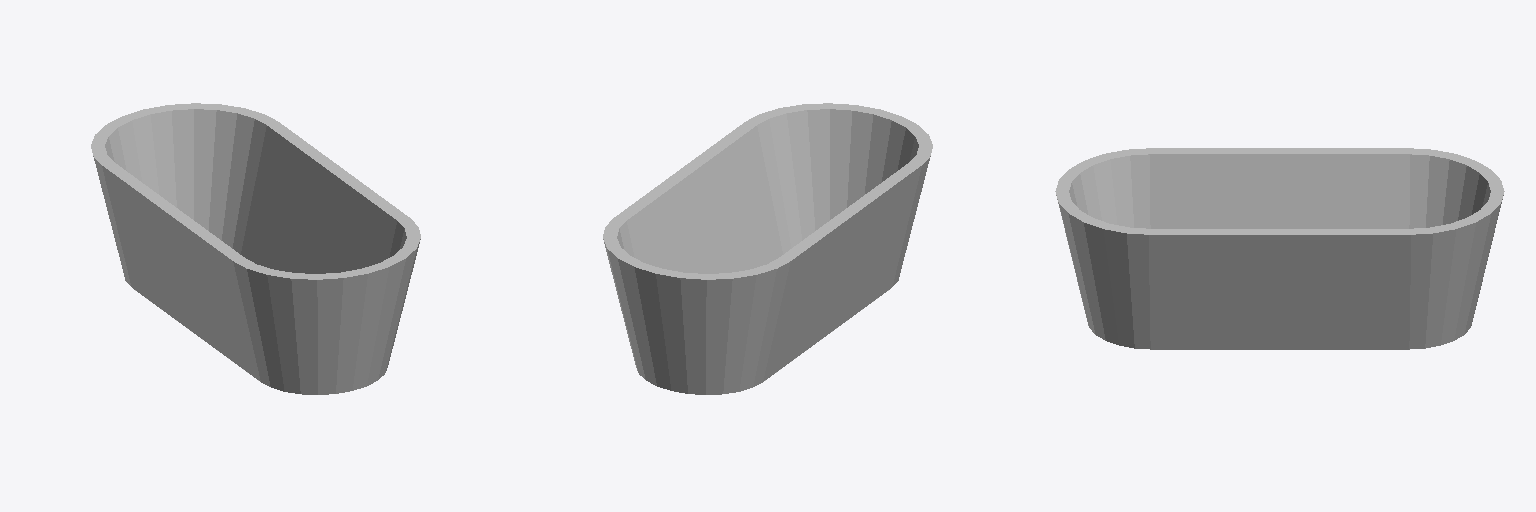
File: UMBRELLA BLANCA.obj
3 views of the same model, side by side, from view 1: azimuth 30°, elevation 25°; view 2: azimuth 150°, elevation 25°; view 3: azimuth 270°, elevation 25° (orthographic).
Visible parts, largest first — view 1: Mesh1 Group1 Model; view 2: Mesh1 Group1 Model; view 3: Mesh1 Group1 Model.
Part boxes in pixels (left/top/right/bottom): Mesh1 Group1 Model: left=91, top=103, right=420, bottom=394; Mesh1 Group1 Model: left=603, top=103, right=932, bottom=394; Mesh1 Group1 Model: left=1055, top=148, right=1504, bottom=349.
Bounding box in the file's own units: 82 × 57 × 180.